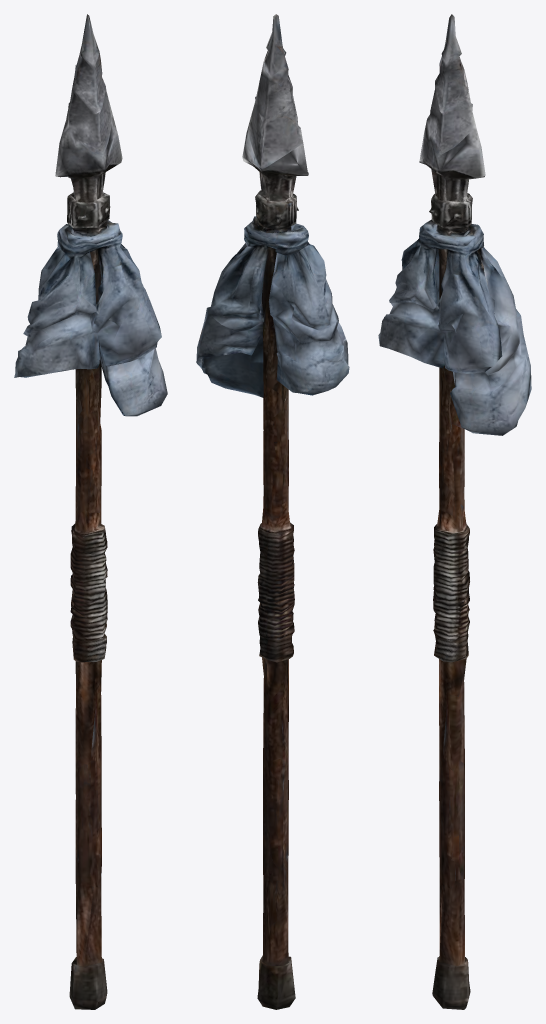
Rendered from spear.glb.
3 renders of one model, left to right at view 1: azimuth 30°, elevation 25°; view 2: azimuth 150°, elevation 25°; view 3: azimuth 330°, elevation 25°, orthographic.
Visible parts, largest first — view 1: tripo_node_9cdc7f02-06d2-4150-bdb4-17ce3c77dd05; view 2: tripo_node_9cdc7f02-06d2-4150-bdb4-17ce3c77dd05; view 3: tripo_node_9cdc7f02-06d2-4150-bdb4-17ce3c77dd05.
Boxes of the visible parts, x1,y1,x2,y2 form: tripo_node_9cdc7f02-06d2-4150-bdb4-17ce3c77dd05: (14, 14, 167, 1009); tripo_node_9cdc7f02-06d2-4150-bdb4-17ce3c77dd05: (196, 14, 349, 1009); tripo_node_9cdc7f02-06d2-4150-bdb4-17ce3c77dd05: (378, 14, 531, 1009).
Size of the model in its own units: 0.152 by 0.9831 by 0.0702.
Materials: 1 (1 with a texture image).
